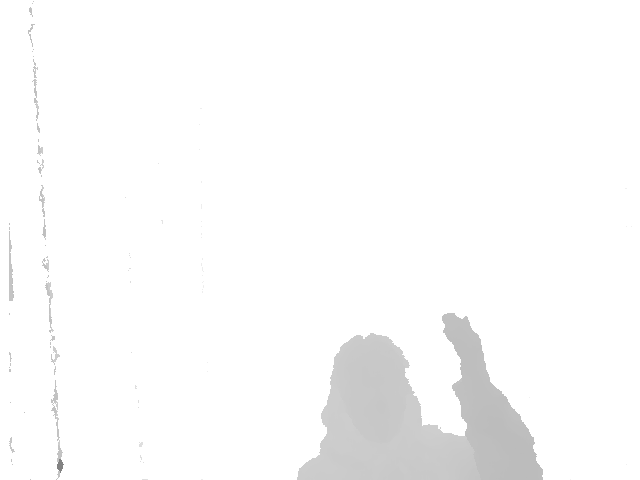hand: (440, 312, 492, 402)
head: (323, 335, 416, 446)
person: (297, 312, 544, 480)
